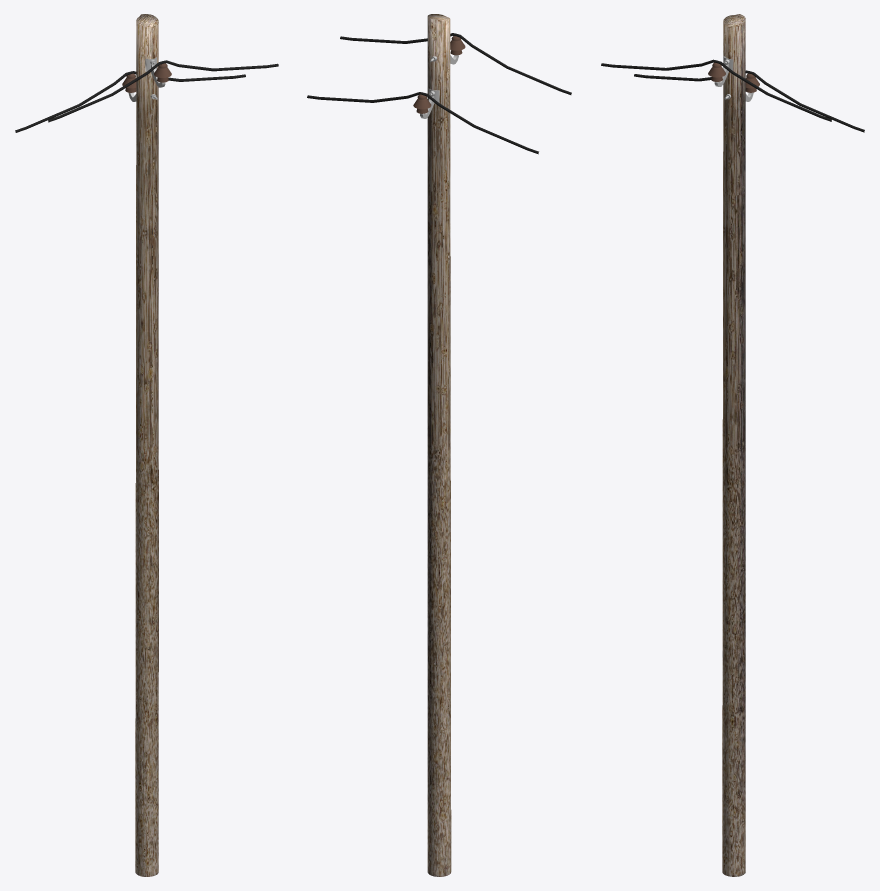
Rendered from sweethome3d-scopia-wood-pole.glb.
3 renders of one model, left to right at view 1: azimuth 30°, elevation 25°; view 2: azimuth 150°, elevation 25°; view 3: azimuth 330°, elevation 25°, orthographic.
Parts seen in each view (by area): view 1: Poteau_Cylinder, Wires_Circle.003; view 2: Poteau_Cylinder, Wires_Circle.003; view 3: Poteau_Cylinder, Wires_Circle.003.
Part boxes in pixels (left/top/right/bottom): Poteau_Cylinder: left=135, top=14, right=158, bottom=876; Wires_Circle.003: left=15, top=60, right=278, bottom=132; Poteau_Cylinder: left=427, top=14, right=451, bottom=876; Wires_Circle.003: left=307, top=33, right=571, bottom=154; Poteau_Cylinder: left=722, top=14, right=745, bottom=876; Wires_Circle.003: left=601, top=59, right=864, bottom=132.
Bounding box in the file's own units: 340 × 1202 × 107.
9 materials, 1 textured.
